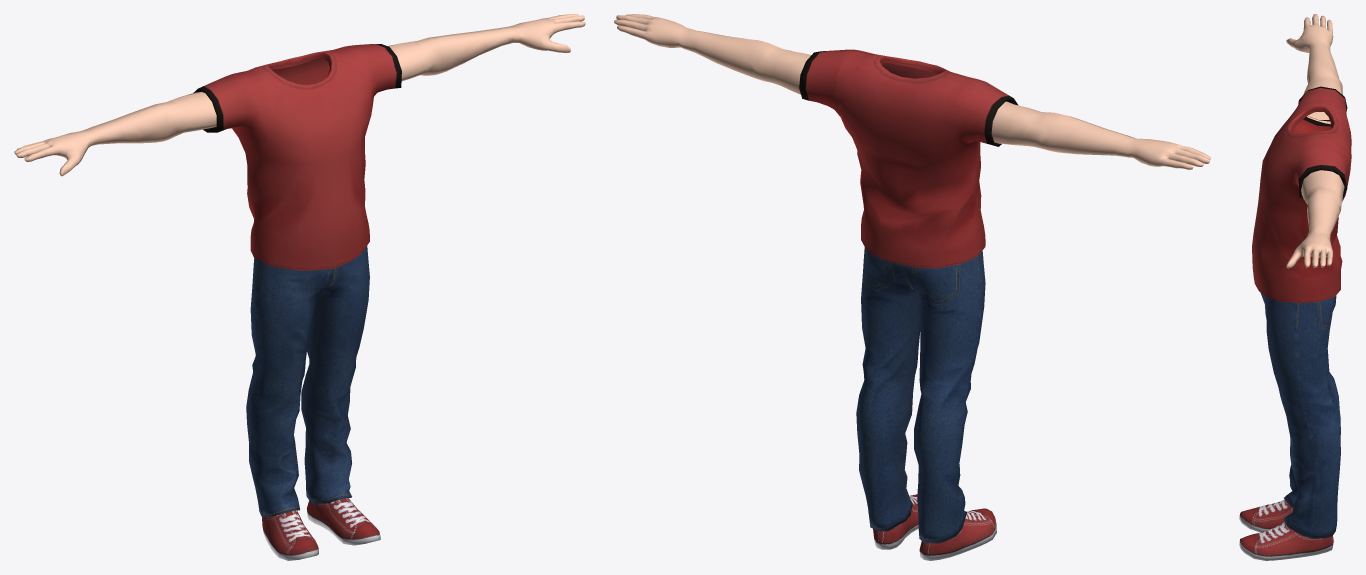
File: ManJohn.fbx
The picture shows the model from 3 angles, left to right: view 1: azimuth 30°, elevation 25°; view 2: azimuth 150°, elevation 25°; view 3: azimuth 270°, elevation 25°; orthographic projection. The views are drawn at different scales.
Parts seen in each view (by area): view 1: ManJohn_lod0; view 2: ManJohn_lod0; view 3: ManJohn_lod0.
Boxes of the visible parts, box(x1,y1,x2,y2) form: ManJohn_lod0: box(14, 14, 585, 560); ManJohn_lod0: box(614, 14, 1210, 560); ManJohn_lod0: box(1239, 14, 1351, 560).
Size of what is drawn, in the model's own units: 192 by 150 by 36.25.
